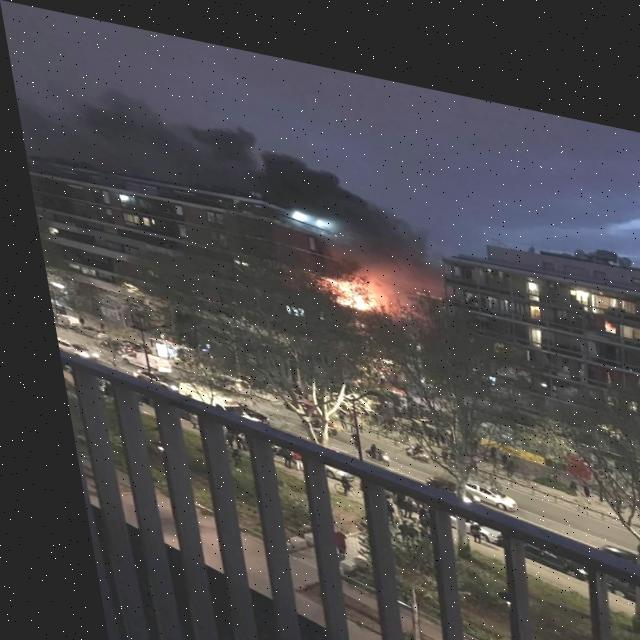Fire: (295, 240, 393, 312)
